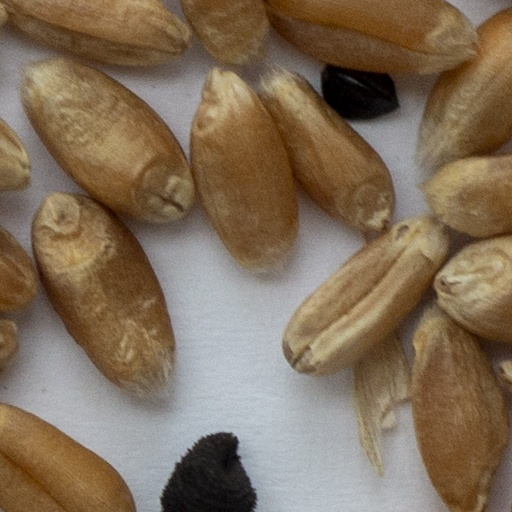Agrostemma-poly: (160, 432, 255, 511)
Fallopia-Convolvulus-poly: (322, 66, 396, 117)
